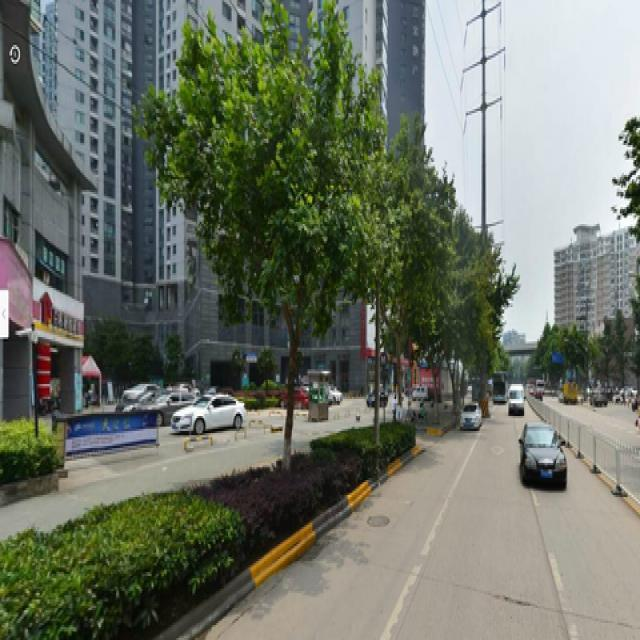meta: (158, 23, 394, 454)
